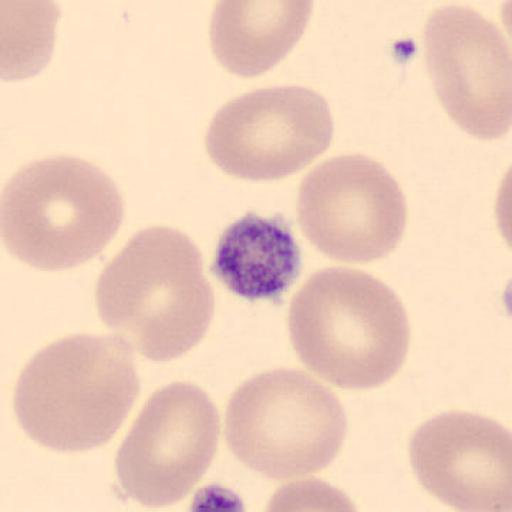Platelet: (206, 208, 306, 304), (184, 478, 248, 512)
RBC: (95, 224, 214, 366), (11, 331, 144, 455), (286, 264, 412, 393), (2, 151, 126, 274), (223, 364, 350, 482), (115, 378, 221, 512), (294, 150, 410, 266), (203, 83, 336, 184), (422, 1, 512, 141), (407, 408, 512, 512), (207, 0, 315, 79), (2, 0, 61, 83), (260, 475, 364, 512), (492, 162, 512, 257), (493, 173, 512, 251), (498, 0, 512, 45)
